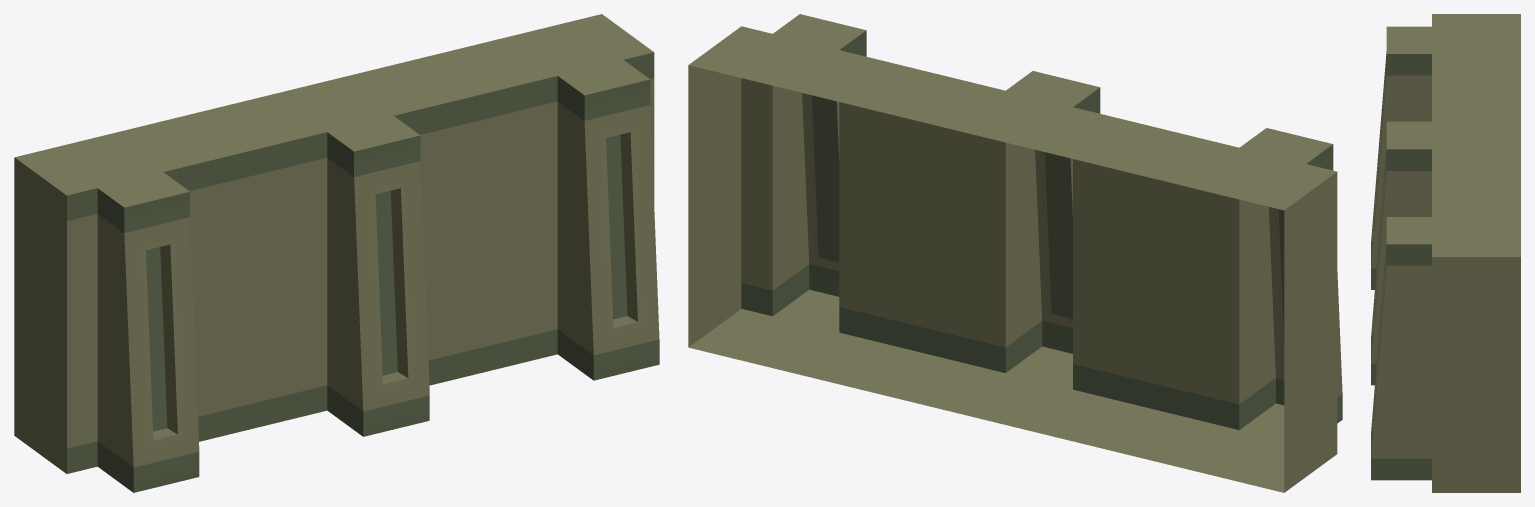
The model's file is wall_column.fbx.
3 views of the same model, side by side, from view 1: azimuth 30°, elevation 25°; view 2: azimuth 150°, elevation 25°; view 3: azimuth 270°, elevation 25° (orthographic). The views are drawn at different scales.
Parts seen in each view (by area): view 1: wall_column; view 2: wall_column; view 3: wall_column.
Boxes of the visible parts, x1,y1,x2,y2 form: wall_column: (14, 14, 659, 492); wall_column: (688, 14, 1342, 492); wall_column: (1371, 14, 1520, 492).
Bounding box in the file's own units: 9.72 × 4.4 × 2.53.
